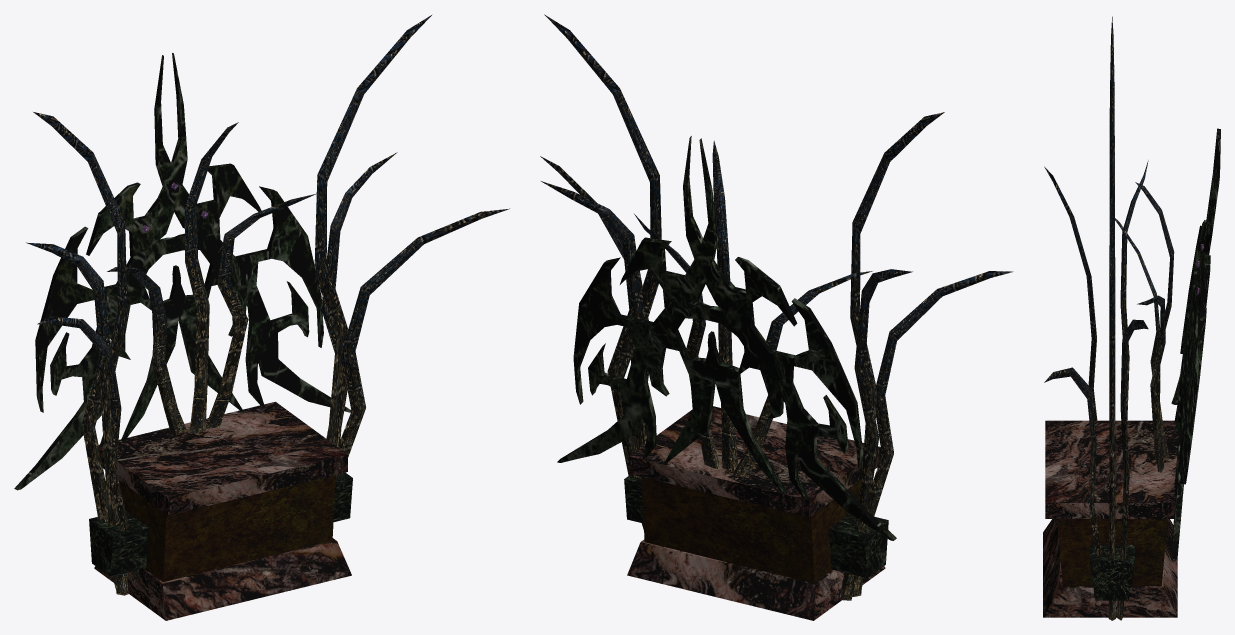
Rendered from DarkAltarNoStuff.fbx.
The picture shows the model from 3 angles, left to right: view 1: azimuth 30°, elevation 25°; view 2: azimuth 150°, elevation 25°; view 3: azimuth 270°, elevation 25°; orthographic projection. The views are drawn at different scales.
Visible parts, largest first — view 1: Mesh1; view 2: Mesh1; view 3: Mesh1.
Boxes of the visible parts, x1=… form: Mesh1: x1=14, y1=14, x2=509, y2=620; Mesh1: x1=540, y1=14, x2=1013, y2=620; Mesh1: x1=1043, y1=16, x2=1220, y2=620.
Bounding box in the file's own units: 18.53 × 18.91 × 6.41.
